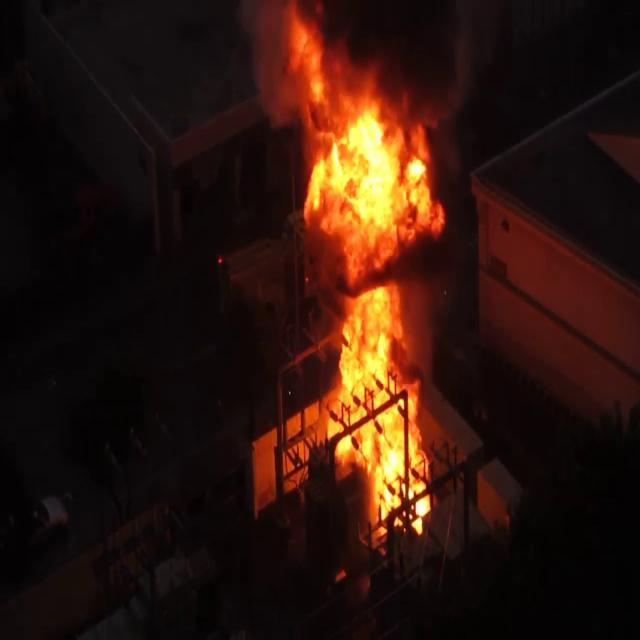Fire: (278, 15, 454, 532)
